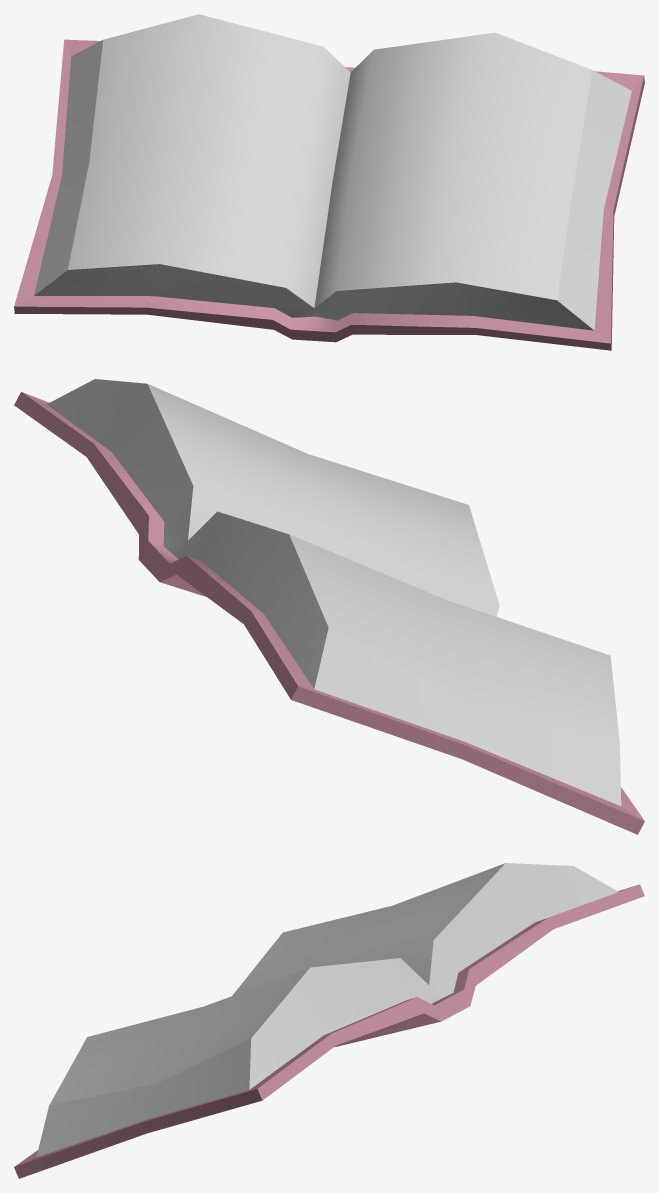
The model's file is books2.glb.
3 views of the same model, one above another, from view 1: azimuth 30°, elevation 25°; view 2: azimuth 150°, elevation 25°; view 3: azimuth 270°, elevation 25° (orthographic). The views are drawn at different scales.
Parts seen in each view (by area): view 1: book; view 2: book; view 3: book.
Part boxes in pixels (x1,y1,x2,y2): book: (14, 14, 644, 350); book: (14, 379, 644, 834); book: (14, 863, 644, 1178).
Size of what is drawn, in the model's own units: 5.17 by 1.96 by 4.78.
